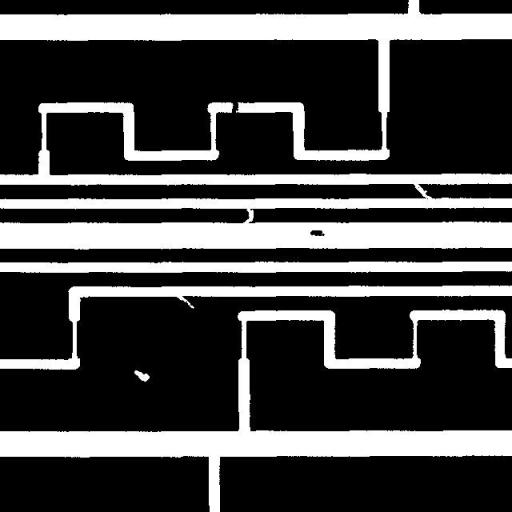copper: (302, 222, 332, 244)
mousebite: (167, 286, 202, 316)
open: (402, 170, 440, 207), (234, 198, 261, 232)
pin-hole: (126, 362, 157, 389)
short: (222, 93, 246, 122)
